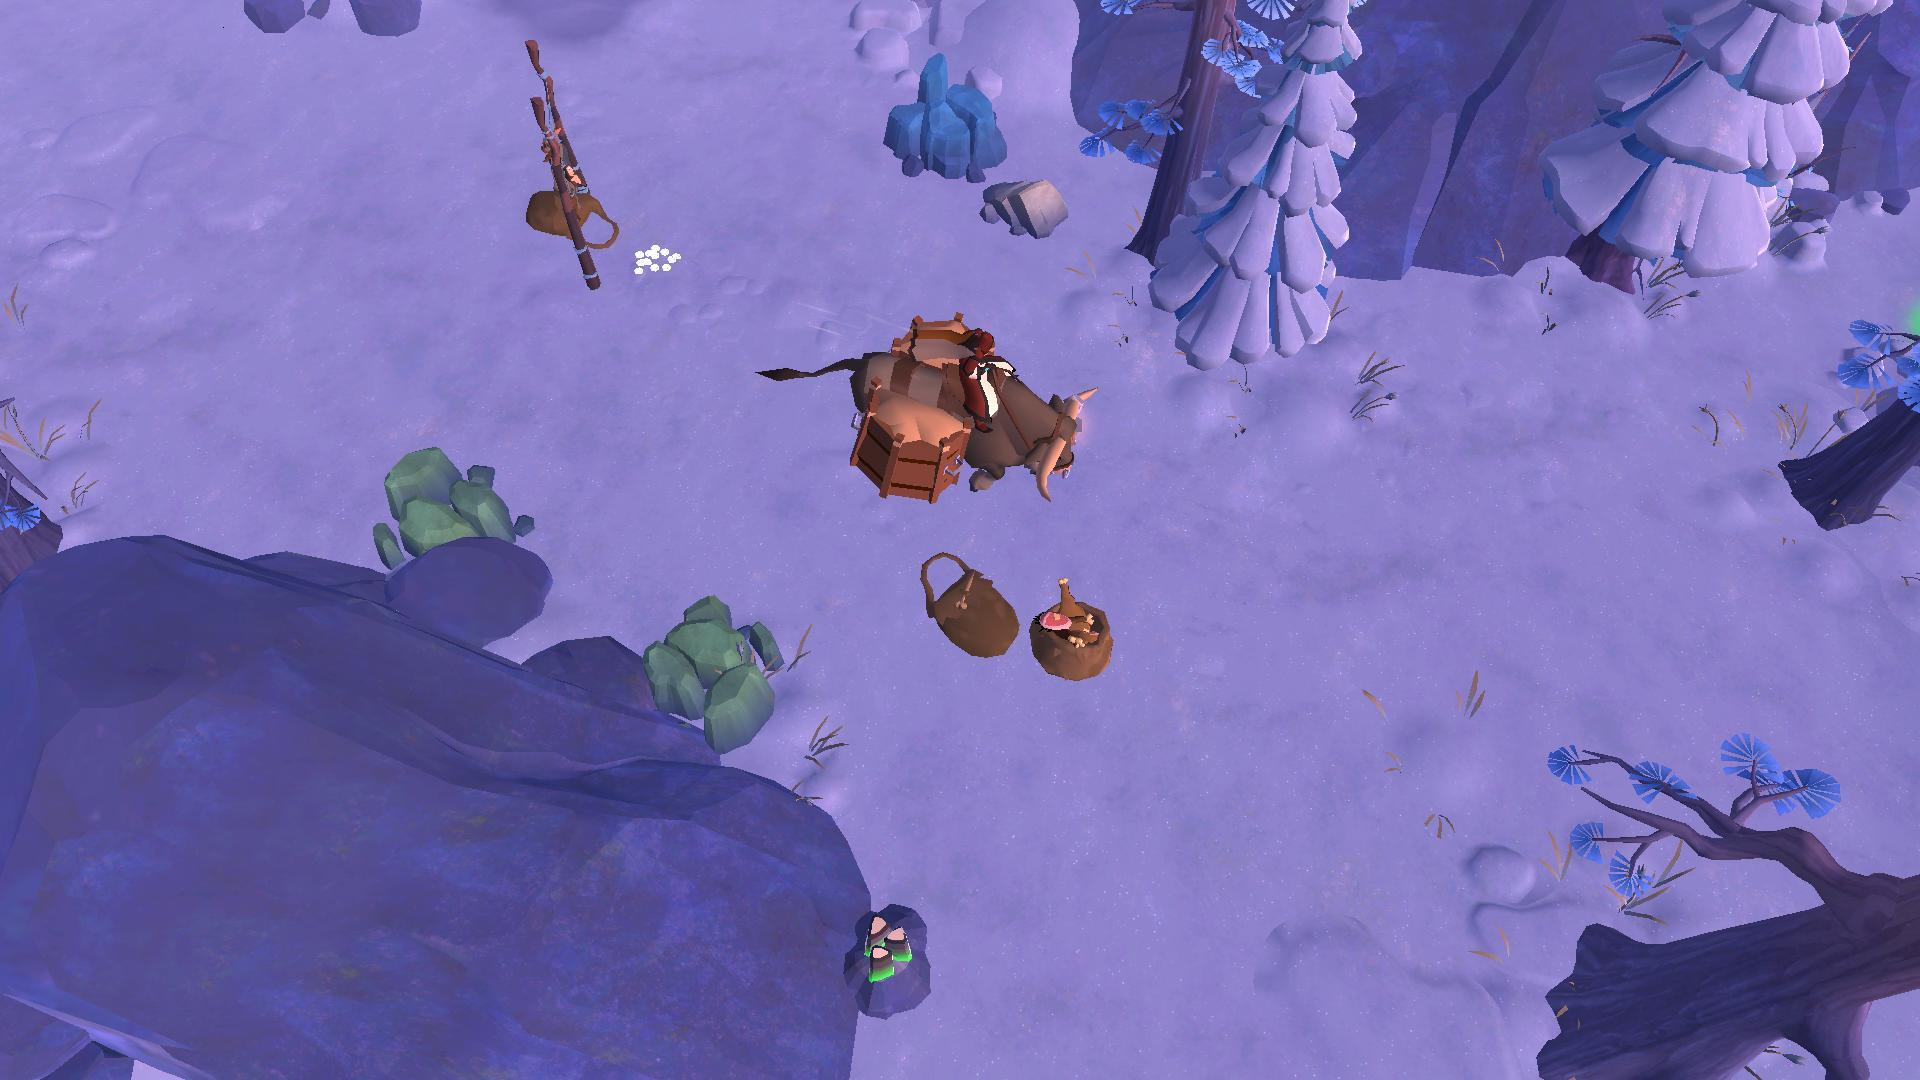ore_t3: (852, 906, 914, 993)
rock_t3: (628, 583, 789, 752), (364, 429, 533, 587)
rock_t4: (869, 50, 1007, 194)
